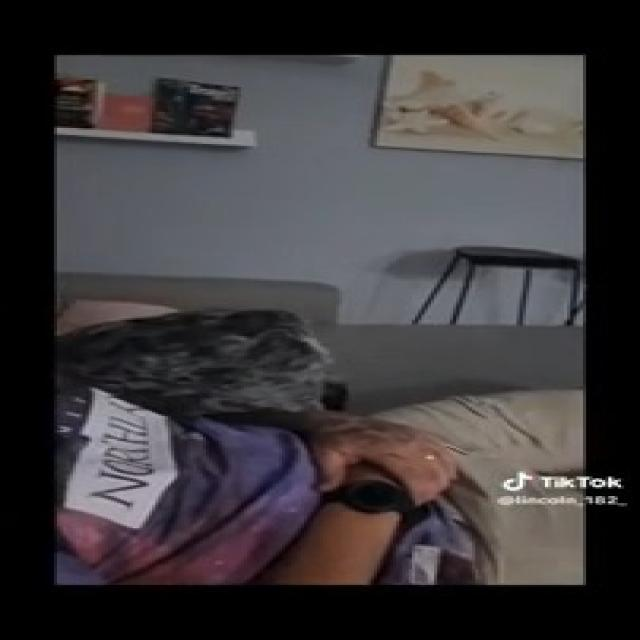dogs: (75, 299, 389, 421)
